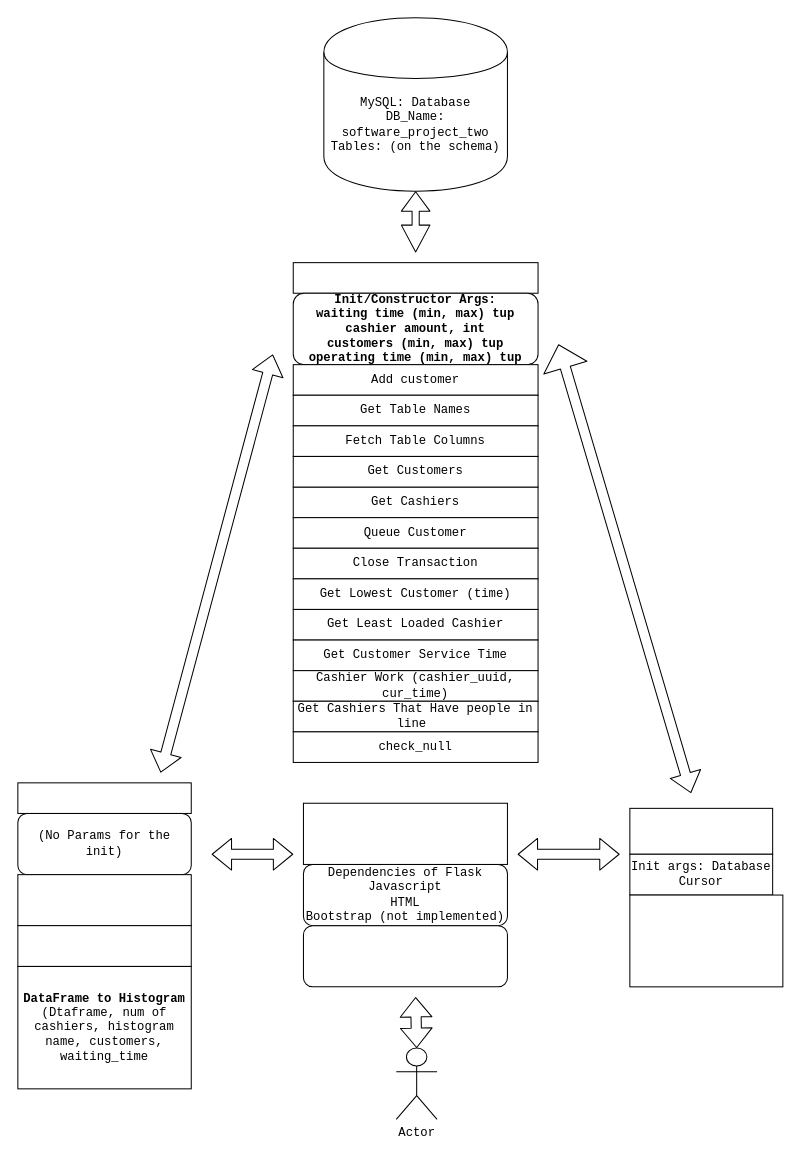
The diagram is 801 pixels wide and 1159 high, and some of its shapes have lost their labels. The shapes that lost their labels are listed below. From the top down, each one's centre as x and y in pixels, then its label:
pixel 415 277: Database Functions
pixel 104 797: Visualizer
pixel 404 833: Main (Flask GUI)
pixel 701 830: Simulator
pixel 104 900: SQL to Datarame (sql data, sql colums)
pixel 104 945: Save Data Frame to CSV (dataframe, filename)
pixel 404 956: JQUERY
pixel 706 940: Commence Simulation! (time_open, time_close)
